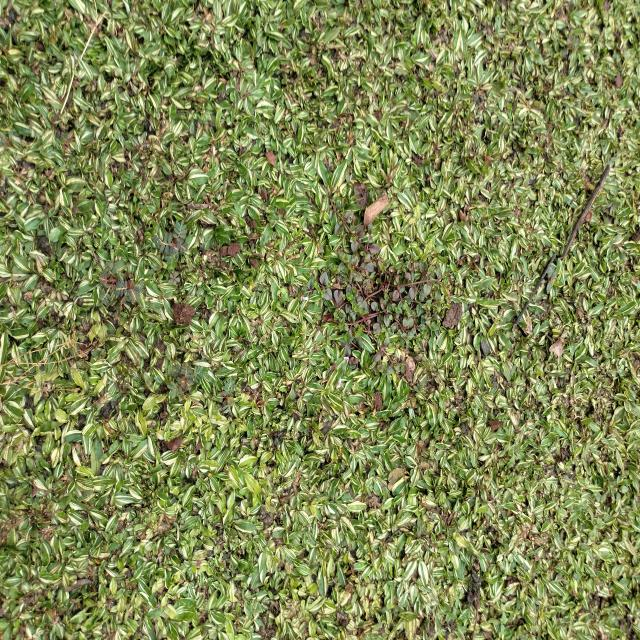buah daun: (98, 258, 146, 311), (154, 216, 193, 268), (166, 361, 205, 400), (218, 373, 239, 416), (542, 254, 560, 294), (604, 197, 623, 219), (168, 270, 182, 288)
ungu tunggang: (335, 255, 451, 348)
